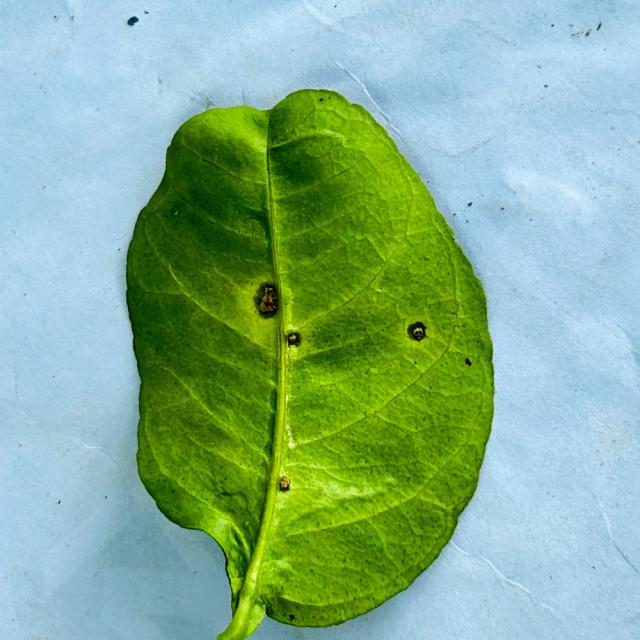Anthracnose: (388, 307, 453, 355), (269, 467, 305, 529), (256, 275, 290, 334), (268, 325, 320, 360)
Lemon: (124, 89, 496, 639)
